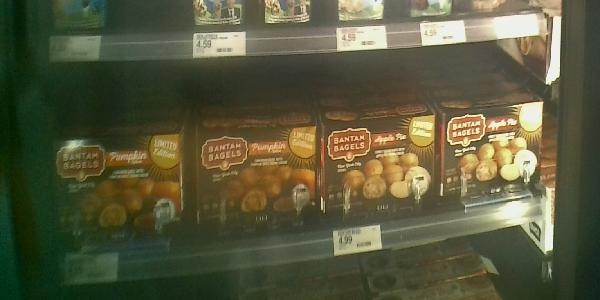icecream: (195, 114, 324, 236), (53, 135, 191, 242), (322, 108, 440, 225), (438, 102, 549, 203)
